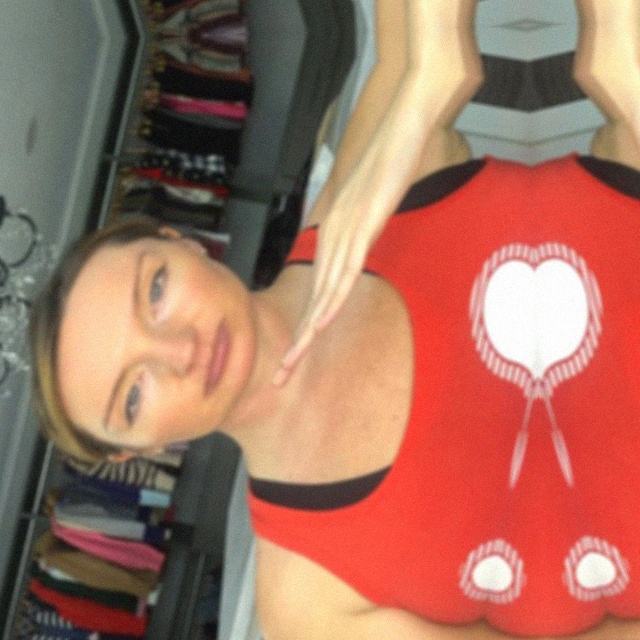Paper: (262, 81, 441, 407)
